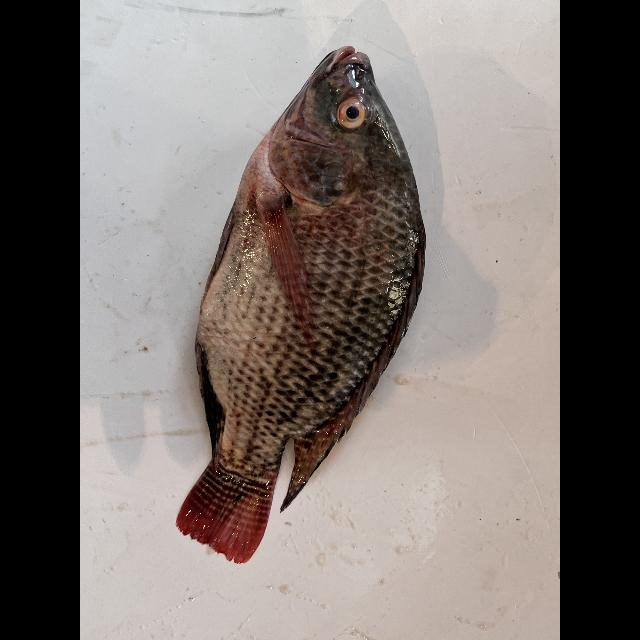Tilapia: (175, 43, 429, 564)
